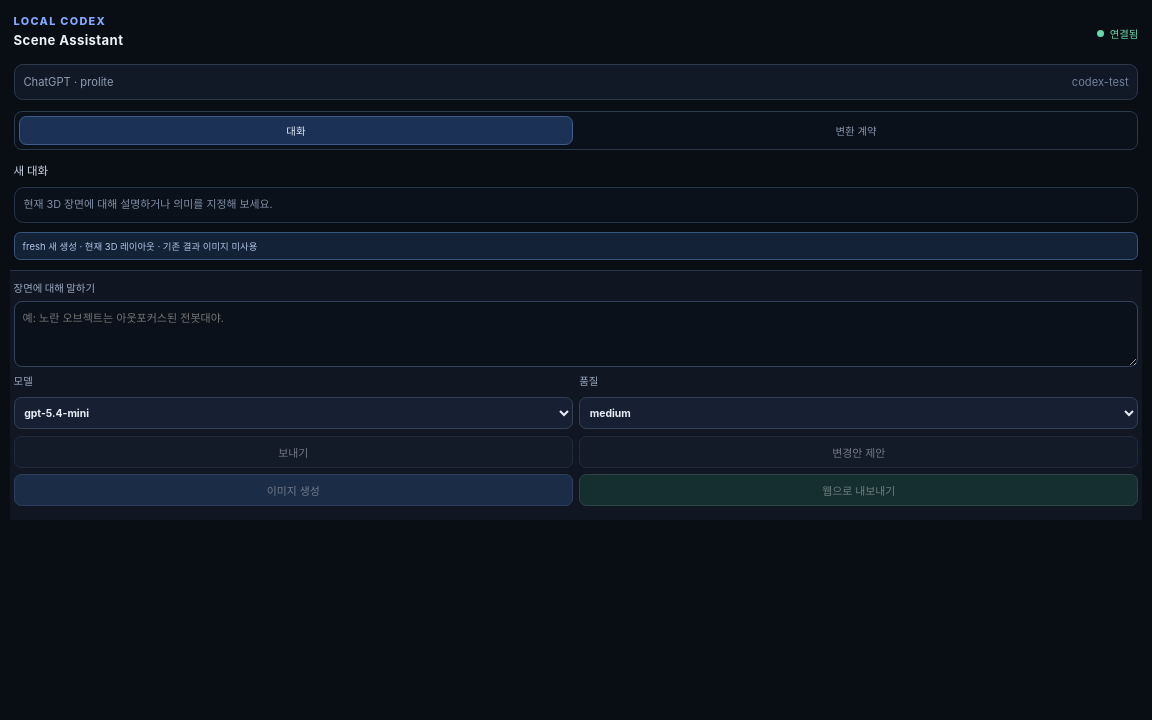
Test case: SceneAssistantPanel › 사용자 변경 지시를 revisioned structured proposal turn으로 요청한다
The width and height of the screenshot is (1152, 720).
Type "장소를 골목 치킨집으로 바꿔줘." into the text box labelled "장면에 대해 말하기" at (576, 334), box [14,301,1138,367]
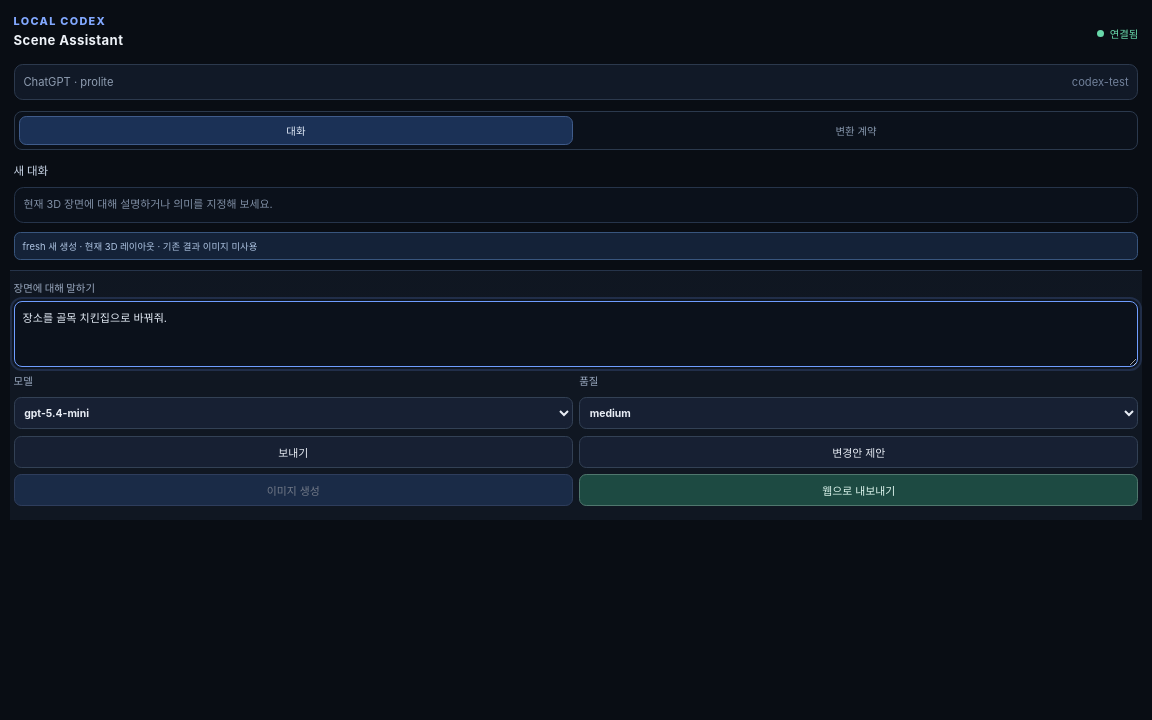
Click the button "변경안 제안" at (859, 452), box [579,436,1138,468]
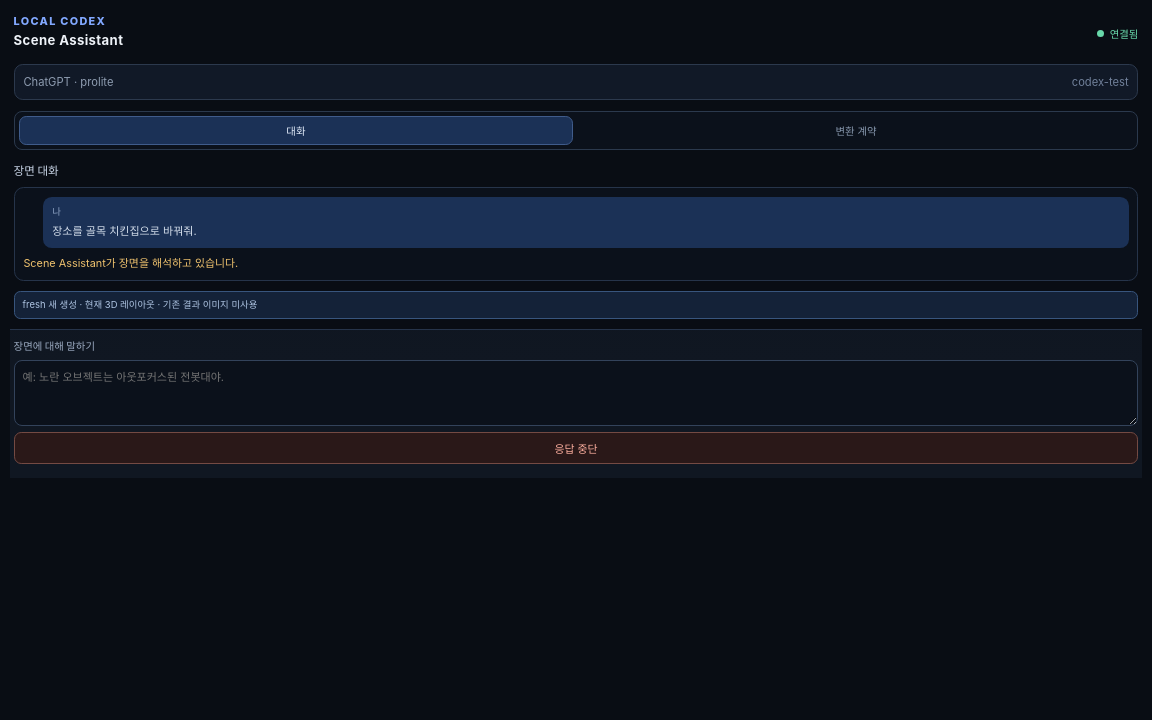
Check: the text "장소를 골목 치킨집으로 바꿔줘." is shown, box [52,224,197,238]
